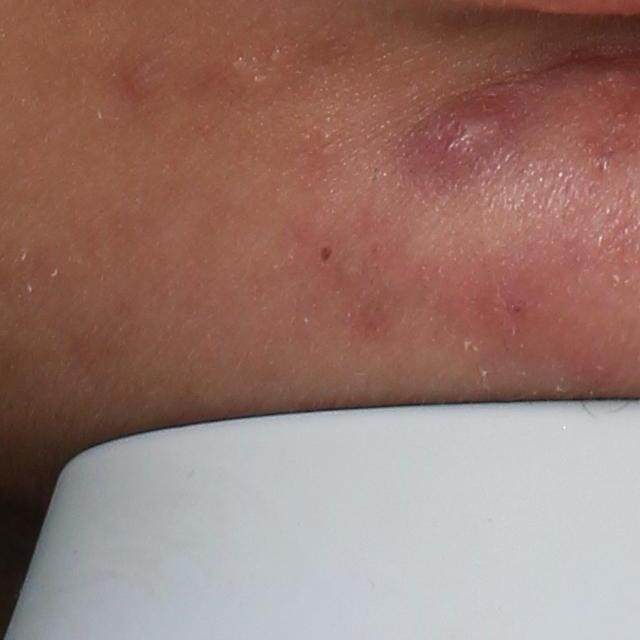nevus: (320, 244, 335, 263)
papule: (401, 89, 531, 182)
